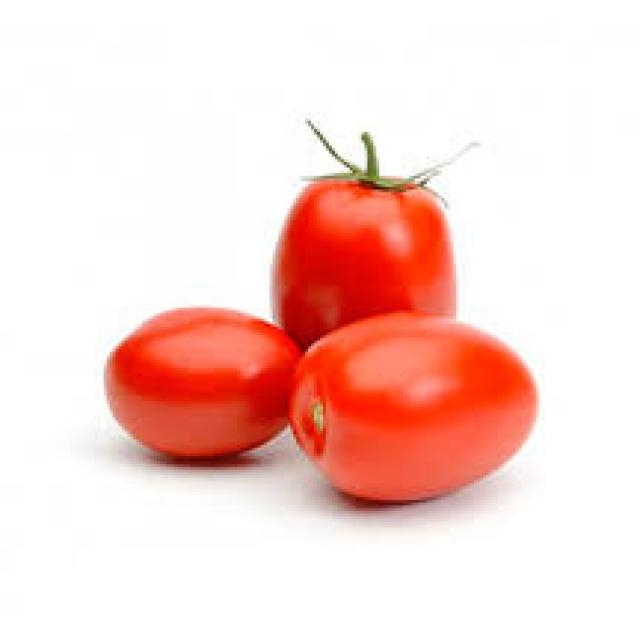Fresh_tomato: (295, 310, 551, 505), (284, 109, 477, 351), (104, 298, 290, 474)
